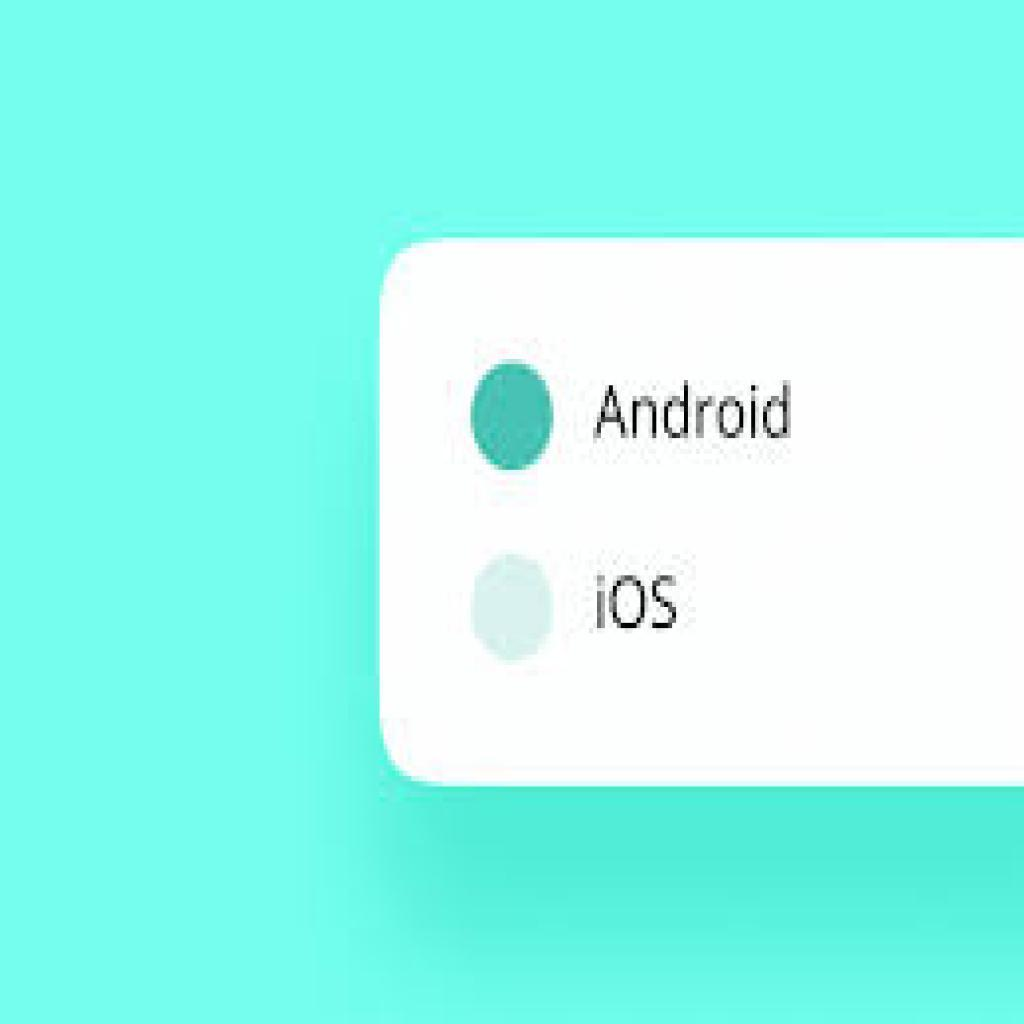label: (596, 373, 794, 453), (584, 572, 706, 632)
radio: (465, 352, 565, 482), (468, 557, 564, 663)
